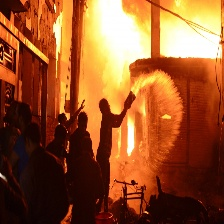fire: (93, 1, 222, 69)
